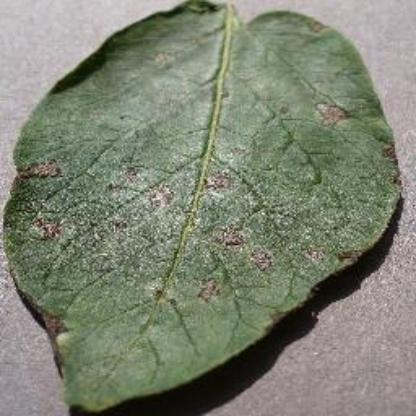Early-Blight: (2, 6, 402, 410)
